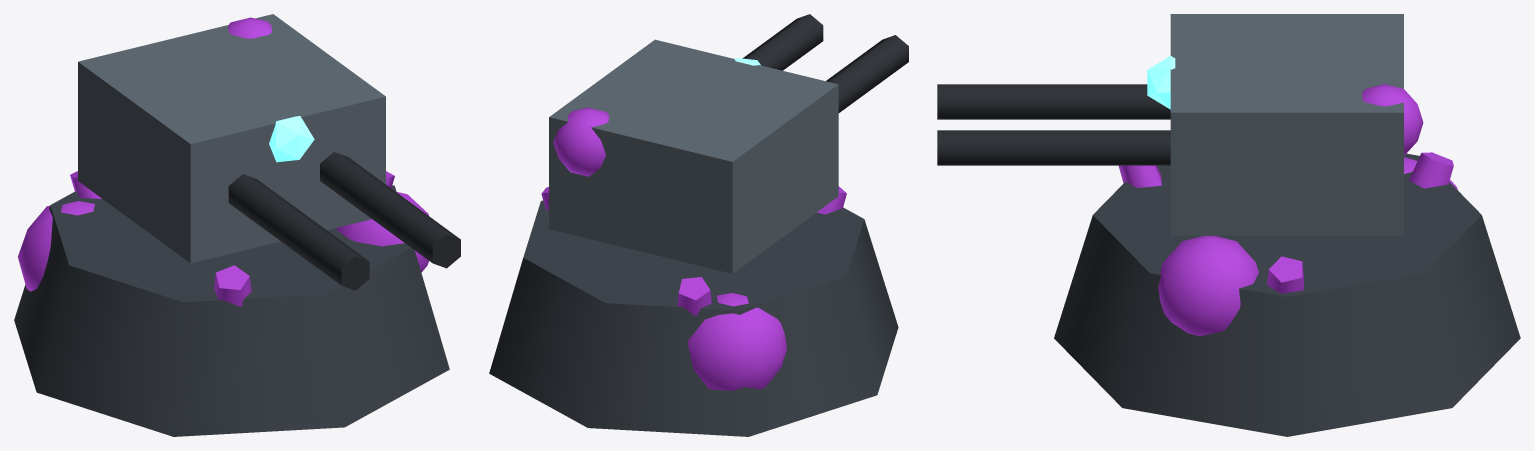
File: en_turret.glb
3 renders of one model, left to right at view 1: azimuth 30°, elevation 25°; view 2: azimuth 150°, elevation 25°; view 3: azimuth 270°, elevation 25°, orthographic. The views are drawn at different scales.
Parts seen in each view (by area): view 1: enemy, head, eye, tentacle1; view 2: enemy, head, tentacle2; view 3: enemy, head, tentacle2, tentacle0, eye, tentacle1.
Part boxes in pixels (x1,y1,x2,y2): enemy: (14, 17, 449, 436); head: (78, 14, 460, 290); eye: (269, 116, 314, 162); tentacle1: (214, 265, 251, 307); enemy: (489, 107, 898, 436); head: (549, 14, 908, 273); tentacle2: (677, 277, 711, 316); enemy: (1054, 84, 1520, 436); head: (937, 14, 1403, 235); tentacle2: (1409, 152, 1453, 188); tentacle0: (1267, 256, 1304, 293); eye: (1147, 55, 1175, 109); tentacle1: (1118, 165, 1161, 187).
Bounding box in the file's own units: 1.2 × 0.866 × 1.5.
